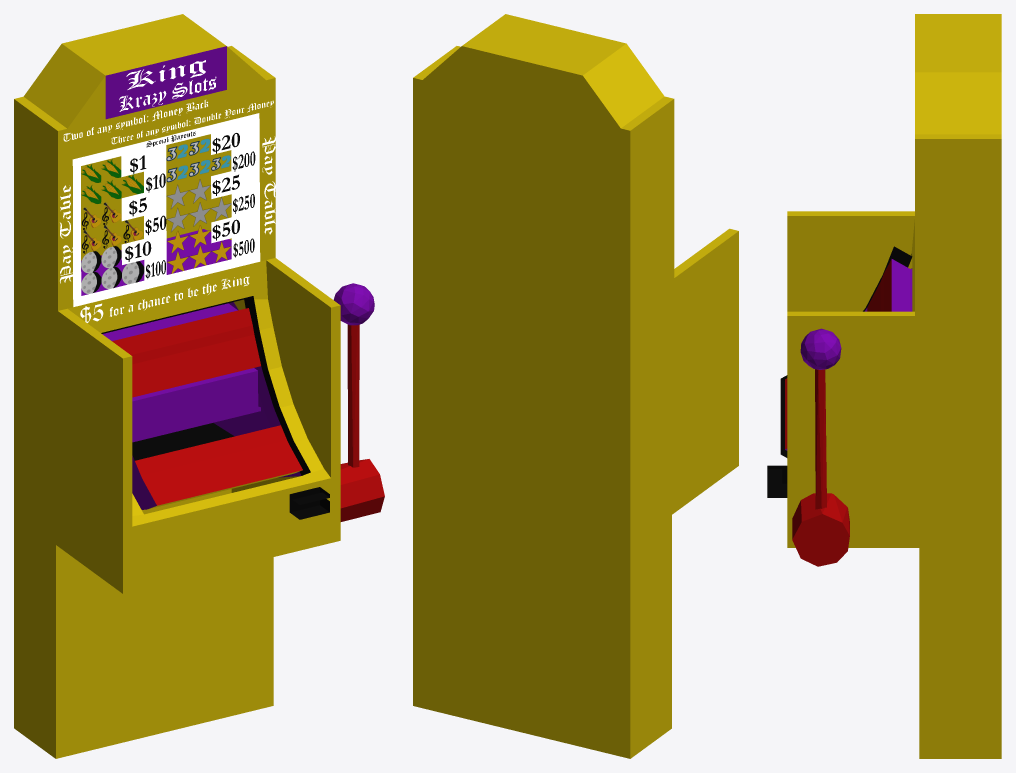
File: Slot Machine - King.glb
3 views of the same model, side by side, from view 1: azimuth 30°, elevation 25°; view 2: azimuth 150°, elevation 25°; view 3: azimuth 270°, elevation 25° (orthographic).
Parts seen in each view (by area): view 1: Slot Machine, Pull Handle, Labels, Pay, Text.002; view 2: Slot Machine; view 3: Slot Machine, Pull Handle.
Part boxes in pixels (x1,y1,x2,y2): Slot Machine: (14,14,340,758); Pull Handle: (333,283,384,521); Labels: (60,60,275,322); Pay: (125,133,255,278); Text.002: (63,100,273,147); Slot Machine: (413,14,738,758); Slot Machine: (767,14,1001,758); Pull Handle: (792,328,849,566).
Size of what is drawn, in the model's own units: 0.8369 by 2.02 by 0.6478.
13 materials, 6 textured.
